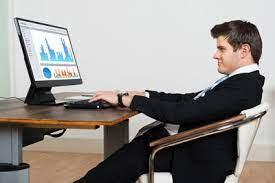Bad Sitting Posture: (74, 14, 270, 160)
